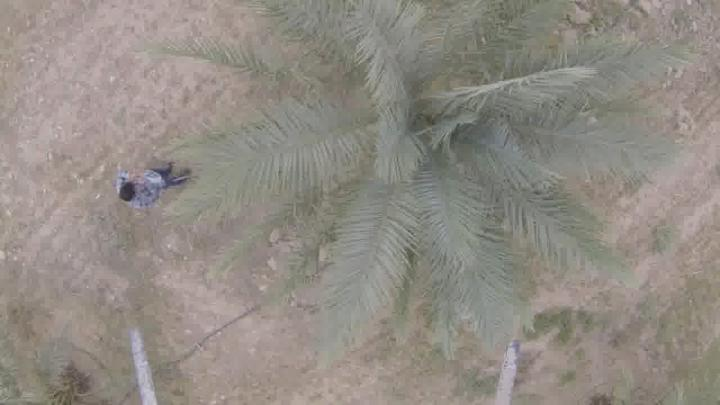Date-Palm-Crown: (303, 2, 572, 274)
